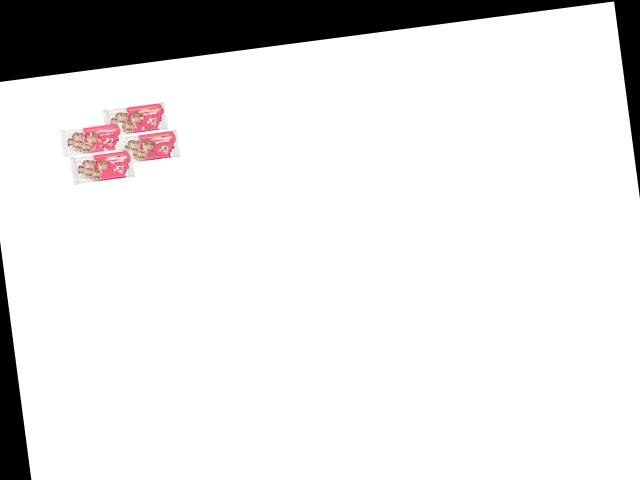chocolate: (98, 97, 174, 143)
